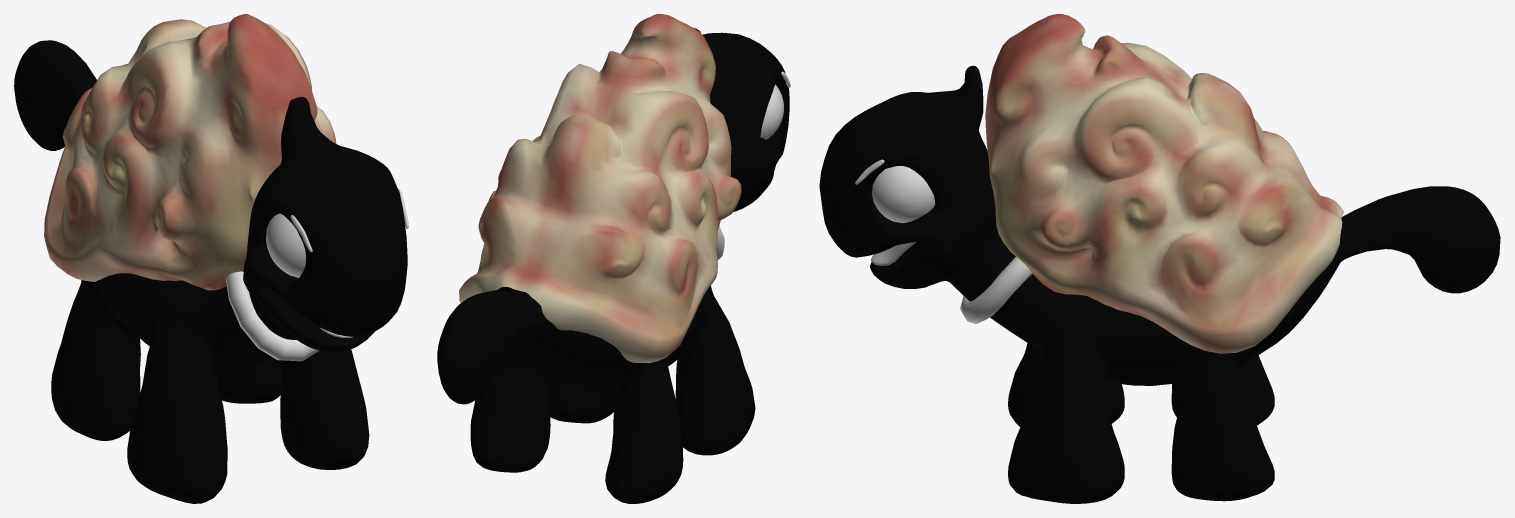
The model's file is torto.fbx.
3 views of the same model, side by side, from view 1: azimuth 30°, elevation 25°; view 2: azimuth 150°, elevation 25°; view 3: azimuth 270°, elevation 25° (orthographic). The views are drawn at different scales.
Parts seen in each view (by area): view 1: shell_copy4, sweep1, pSphere3; view 2: shell_copy4, pSphere3; view 3: shell_copy4, pSphere2, sweep1.
Part boxes in pixels (x1=…): shell_copy4: x1=14, y1=14, x2=407, y2=503; sweep1: x1=226, y1=271, x2=319, y2=361; pSphere3: x1=266, y1=213, x2=305, y2=277; shell_copy4: x1=437, y1=14, x2=789, y2=503; pSphere3: x1=760, y1=84, x2=783, y2=139; shell_copy4: x1=819, y1=14, x2=1500, y2=503; pSphere2: x1=872, y1=166, x2=935, y2=223; sweep1: x1=960, y1=257, x2=1032, y2=323.
Size of the model in its own units: 2.59 by 4.93 by 6.83.
